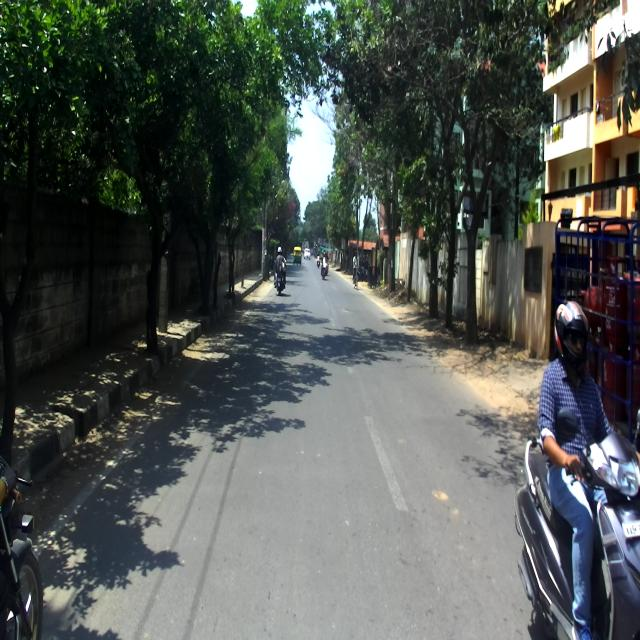motorcycle ahead at: (516, 427, 640, 640)
tree ahead at: (142, 206, 164, 359)
